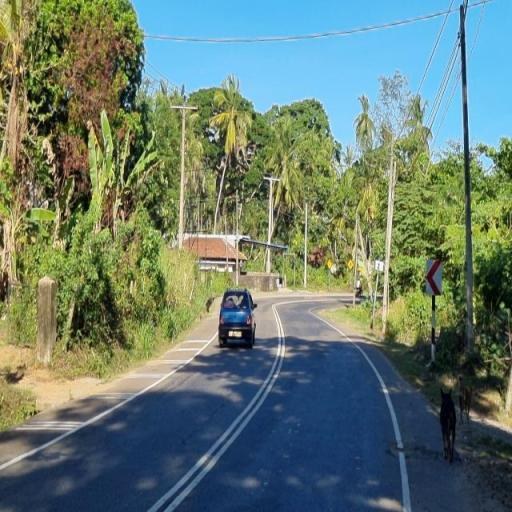double_white_line: (143, 302, 291, 510)
